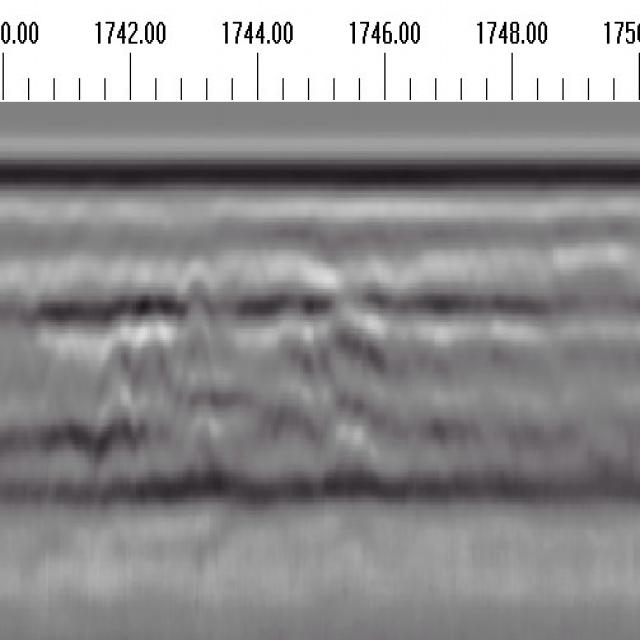loose: (77, 266, 398, 512)
